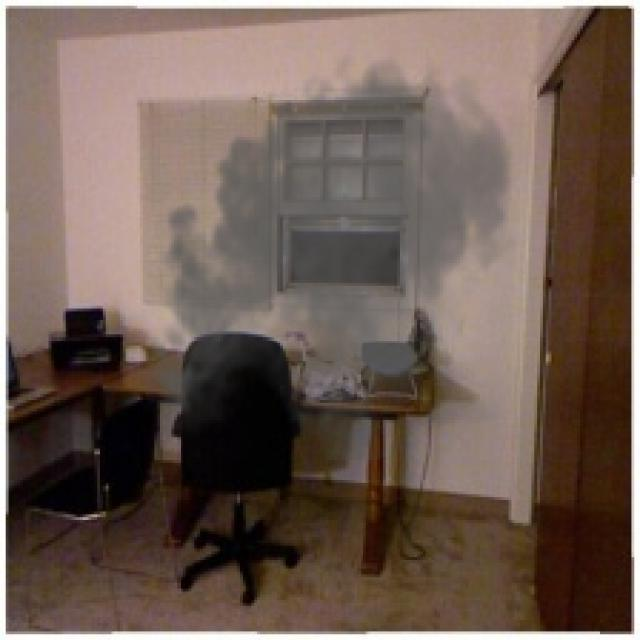Smoke: (140, 40, 520, 460)
